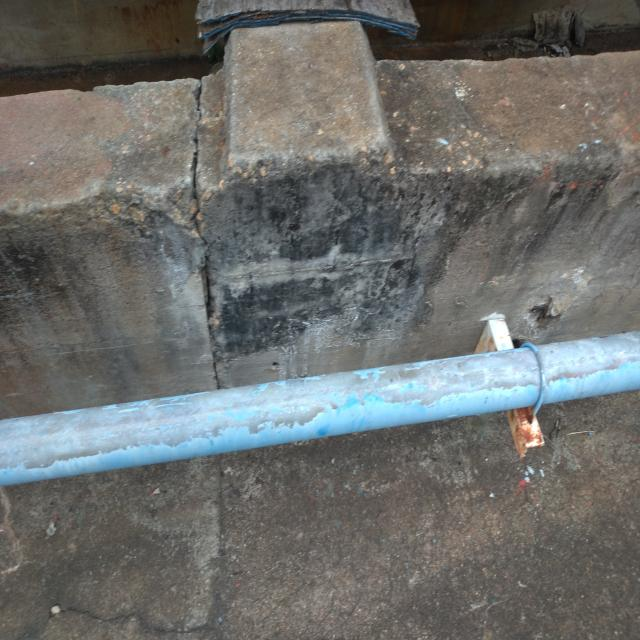gas: (5, 334, 640, 491)
